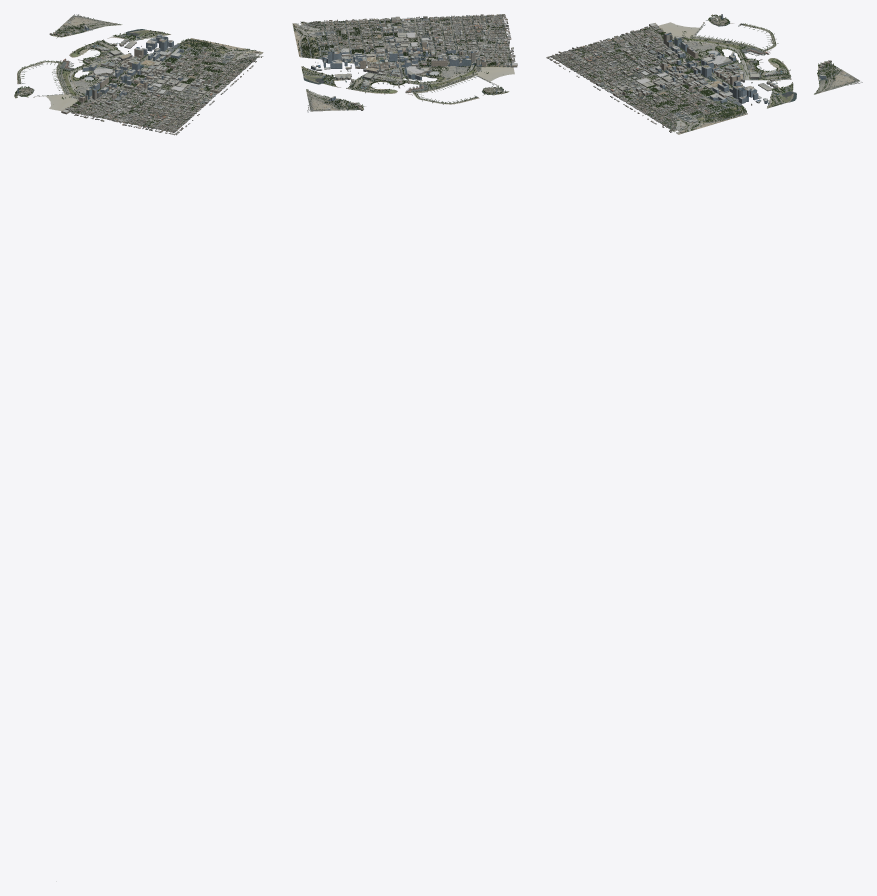
File: long-beach-autogen.glb
3 views of the same model, side by side, from view 1: azimuth 30°, elevation 25°; view 2: azimuth 150°, elevation 25°; view 3: azimuth 270°, elevation 25° (orthographic). The views are drawn at different scales.
Visible parts, largest first — view 1: ground, walls, roofs, trees; view 2: ground, roofs, walls, trees; view 3: ground, walls, roofs, trees.
Part boxes in pixels (box(x1,y1,x2,y2)): ground: box(14, 15, 263, 132); walls: box(16, 14, 262, 135); roofs: box(15, 14, 262, 134); trees: box(14, 15, 259, 130); ground: box(292, 15, 514, 111); roofs: box(294, 14, 517, 111); walls: box(294, 14, 517, 112); trees: box(293, 15, 512, 109); ground: box(552, 15, 859, 134); walls: box(546, 14, 862, 132); roofs: box(547, 14, 860, 132); trees: box(555, 14, 858, 133).
Bounding box in the file's own units: 3058 × 10128 × 3396.
13 materials, 13 textured.
